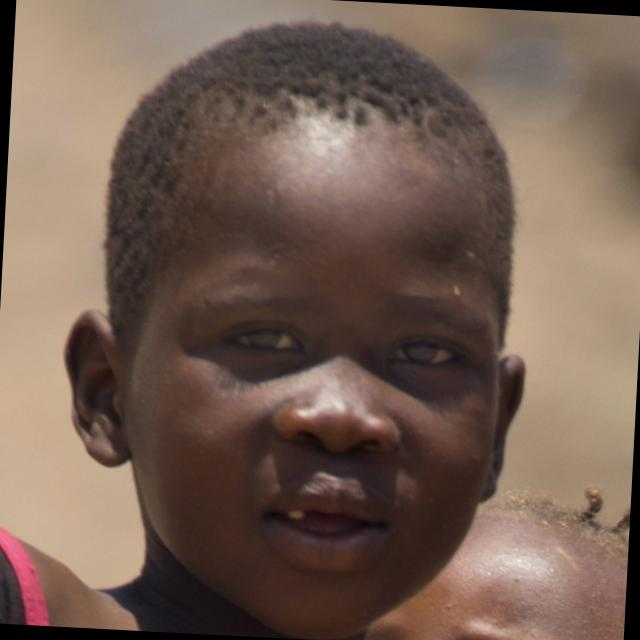face: (46, 6, 544, 640)
